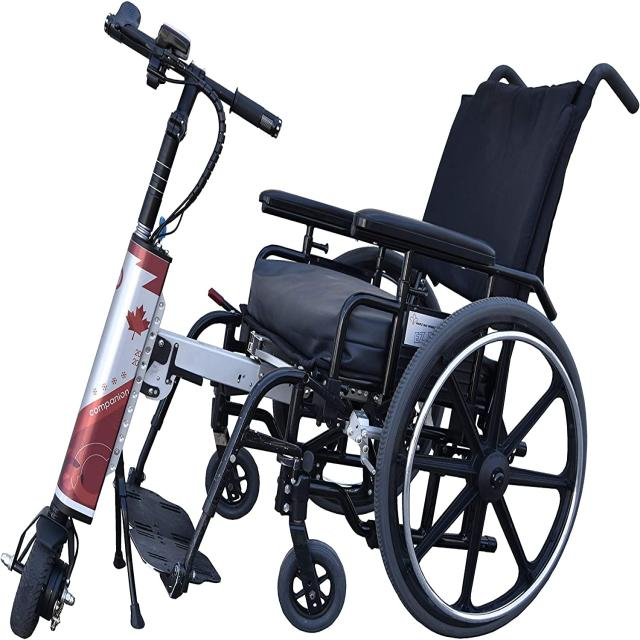wheelchairs: (232, 57, 636, 636)
